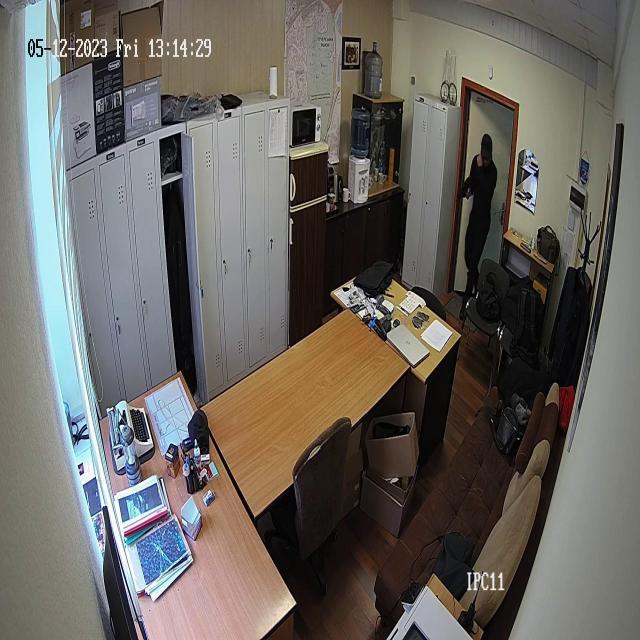pistol: (453, 176, 473, 202)
